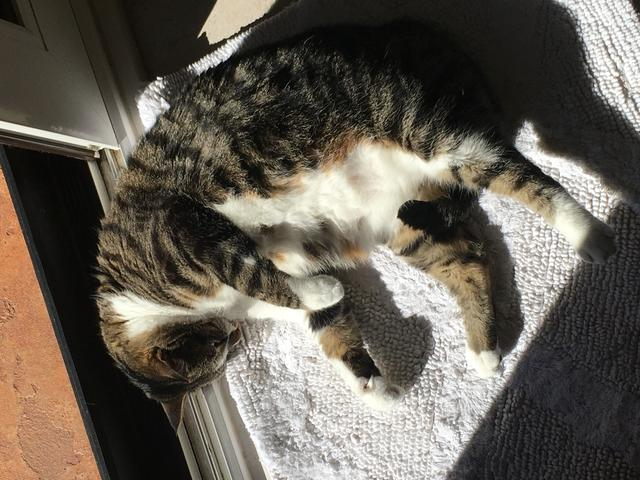playdoh: (91, 46, 616, 431)
